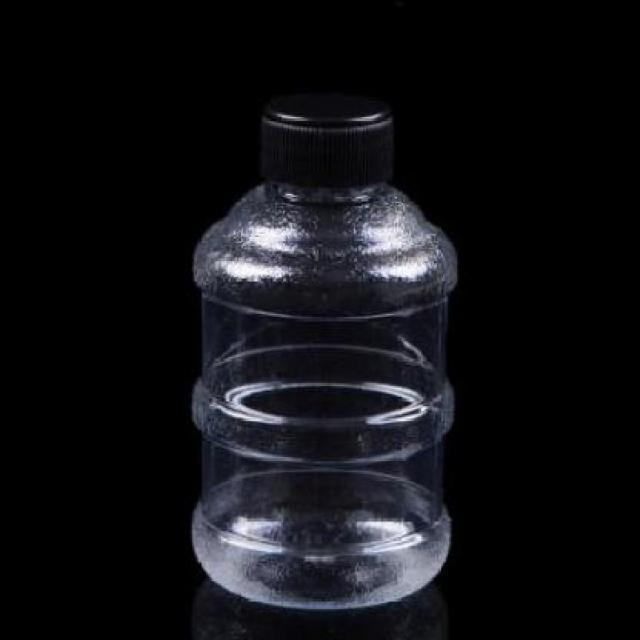coolerbottle: (180, 169, 465, 619)
